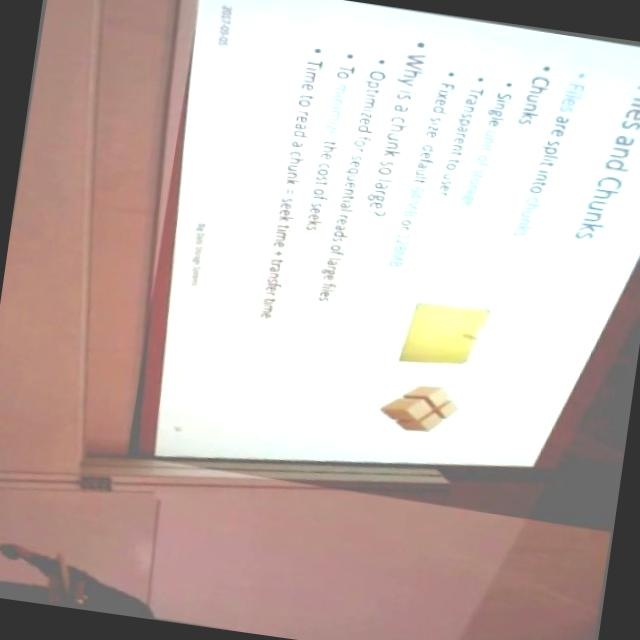Slide: (155, 0, 640, 465)
